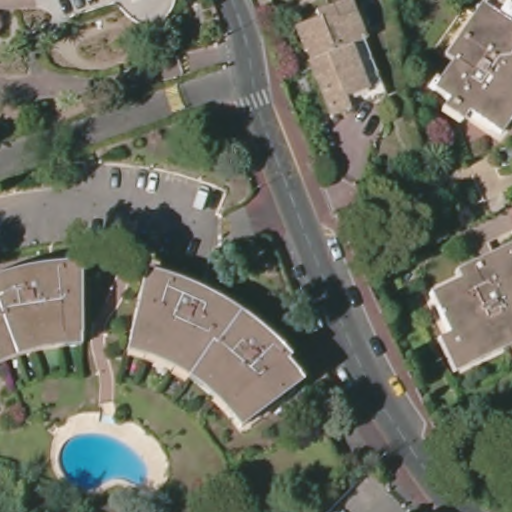pool: (56, 430, 151, 491)
